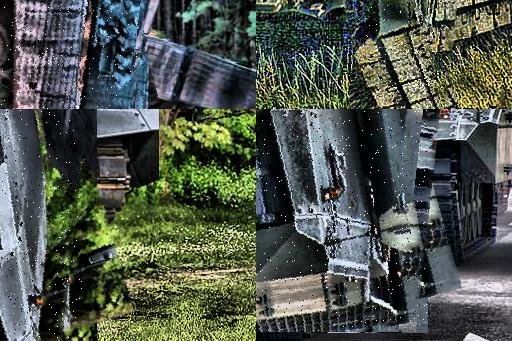tanks: (257, 110, 429, 332), (1, 110, 83, 341), (393, 110, 512, 265), (1, 1, 141, 110), (346, 1, 447, 110), (421, 123, 423, 129)
